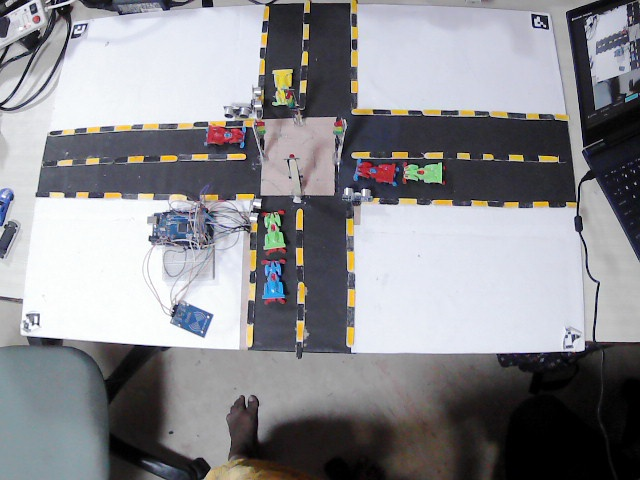aruco_marker: (526, 11, 551, 34), (21, 311, 44, 335), (564, 327, 583, 349), (71, 22, 87, 41)
car: (353, 159, 402, 190), (259, 255, 286, 307), (259, 211, 288, 256), (399, 161, 448, 187), (203, 123, 251, 148), (268, 67, 293, 108)
mixed_lane: (357, 105, 567, 123), (44, 149, 247, 167), (350, 148, 572, 164), (49, 117, 234, 135), (38, 188, 259, 202), (371, 196, 576, 209), (292, 206, 307, 360), (342, 208, 358, 345), (246, 224, 260, 346), (348, 2, 362, 111)
traffic_light: (332, 114, 351, 156), (286, 154, 302, 187), (285, 96, 301, 126), (251, 120, 266, 144)
uno_breadboard: (146, 211, 218, 285), (168, 302, 213, 341), (342, 186, 372, 205), (224, 102, 251, 123), (245, 199, 266, 226), (249, 83, 262, 117)
